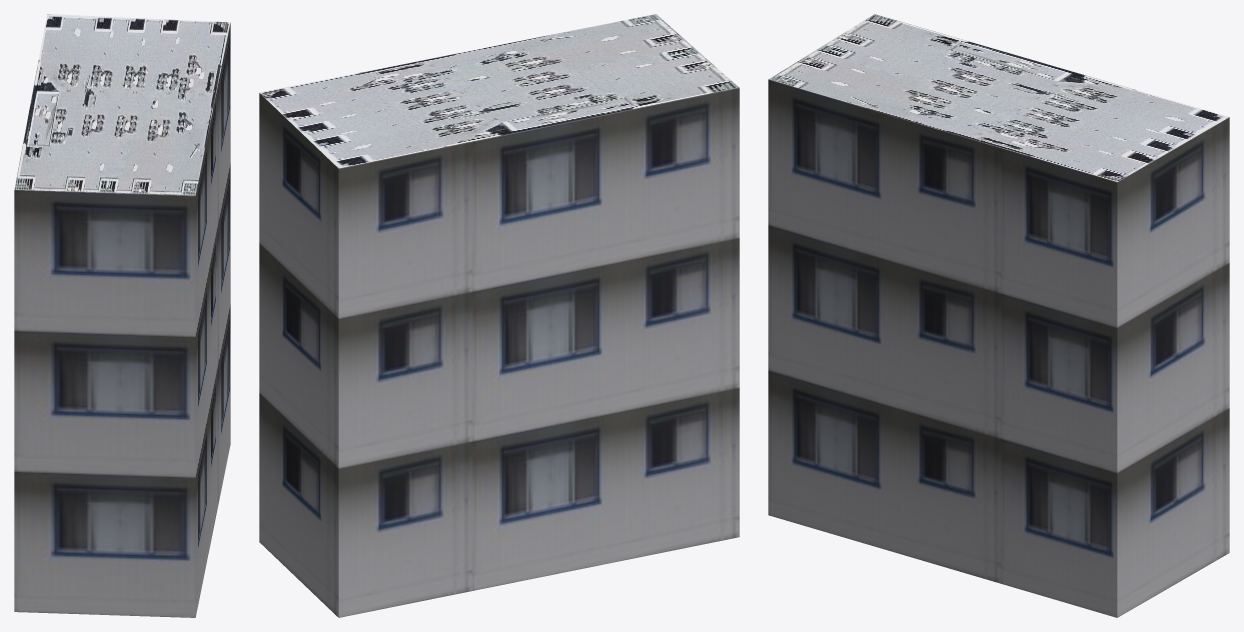
File: ResTex__4264.fbx
3 renders of one model, left to right at view 1: azimuth 30°, elevation 25°; view 2: azimuth 150°, elevation 25°; view 3: azimuth 270°, elevation 25°, orthographic. The views are drawn at different scales.
Parts seen in each view (by area): view 1: CityEngineMaterial_9_m, CityEngineMaterial_m; view 2: CityEngineMaterial_9_m, CityEngineMaterial_m; view 3: CityEngineMaterial_9_m, CityEngineMaterial_m.
Part boxes in pixels (<box>): CityEngineMaterial_9_m: <box>14,23,230,617</box>; CityEngineMaterial_m: <box>14,14,230,195</box>; CityEngineMaterial_9_m: <box>259,88,739,617</box>; CityEngineMaterial_m: <box>259,14,739,168</box>; CityEngineMaterial_9_m: <box>768,79,1229,617</box>; CityEngineMaterial_m: <box>768,14,1229,181</box>.
Size of the model in its own units: 7.44 by 9 by 8.63.
Materials: 2 (2 with a texture image).
